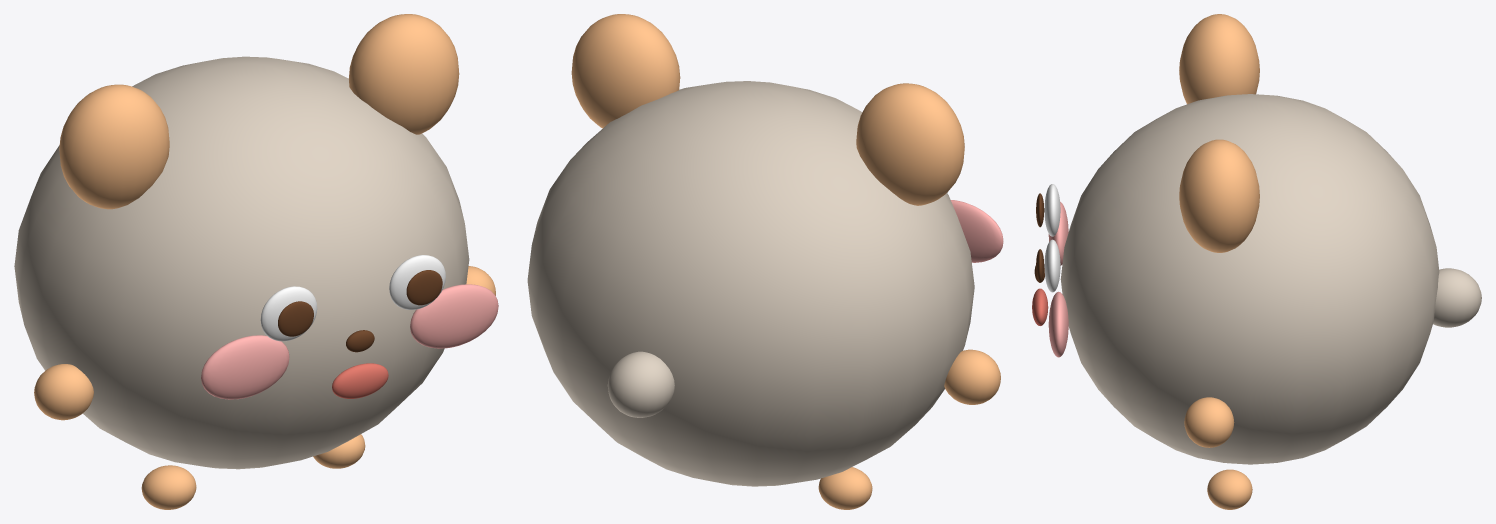
File: golumolu_v001.fbx
3 renders of one model, left to right at view 1: azimuth 30°, elevation 25°; view 2: azimuth 150°, elevation 25°; view 3: azimuth 270°, elevation 25°, orthographic. The views are drawn at different scales.
Parts seen in each view (by area): view 1: Golumolu_Body, Ear_L, Ear_R, Cheek_L, Cheek_R, Arm_L, Foot_L, Mouth, EyeWh_L, EyeWh_R, Pupil_R, Foot_R (+1 smaller); view 2: Golumolu_Body, Ear_L, Ear_R, Tail, Arm_L, Cheek_L, Foot_L; view 3: Golumolu_Body, Ear_R, Ear_L, Tail, Arm_R, Foot_R, Cheek_R, EyeWh_R, EyeWh_L, Cheek_L.
Boxes of the visible parts, bbox=[...] form: Golumolu_Body: bbox=[14, 56, 469, 469]; Ear_L: bbox=[59, 84, 169, 209]; Ear_R: bbox=[348, 14, 459, 134]; Cheek_L: bbox=[201, 335, 289, 399]; Cheek_R: bbox=[410, 284, 498, 348]; Arm_L: bbox=[34, 364, 93, 420]; Foot_L: bbox=[141, 465, 196, 509]; Mouth: bbox=[332, 363, 388, 398]; EyeWh_L: bbox=[260, 286, 317, 341]; EyeWh_R: bbox=[389, 255, 445, 309]; Pupil_R: bbox=[406, 270, 442, 305]; Foot_R: bbox=[313, 434, 365, 468]; Golumolu_Body: bbox=[527, 81, 974, 486]; Ear_L: bbox=[856, 83, 964, 205]; Ear_R: bbox=[571, 14, 680, 128]; Tail: bbox=[607, 351, 674, 417]; Arm_L: bbox=[944, 349, 1000, 404]; Cheek_L: bbox=[951, 200, 1003, 262]; Foot_L: bbox=[818, 467, 872, 509]; Golumolu_Body: bbox=[1060, 94, 1439, 464]; Ear_R: bbox=[1179, 139, 1259, 252]; Ear_L: bbox=[1179, 14, 1259, 104]; Tail: bbox=[1433, 268, 1481, 327]; Arm_R: bbox=[1184, 397, 1234, 447]; Foot_R: bbox=[1207, 469, 1252, 509]; Cheek_R: bbox=[1048, 291, 1068, 357]; EyeWh_R: bbox=[1044, 239, 1060, 292]; EyeWh_L: bbox=[1044, 184, 1060, 236]; Cheek_L: bbox=[1048, 201, 1068, 265].
Size of the model in its own units: 226 by 208 by 218.
